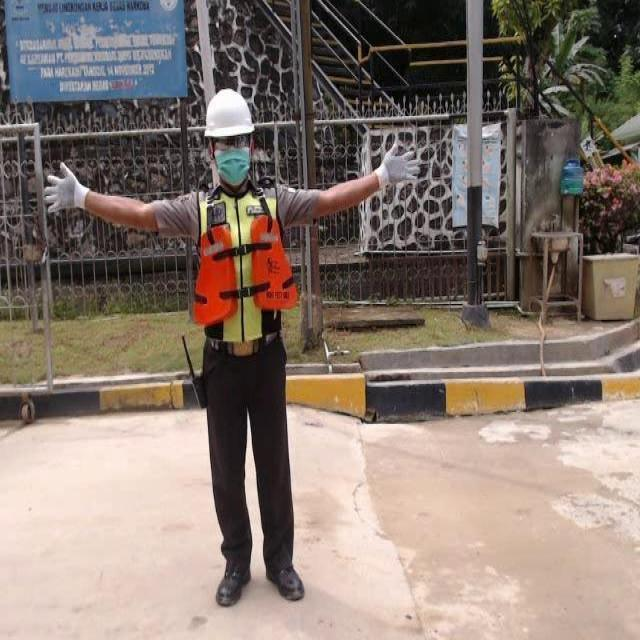Vest: (190, 220, 297, 328)
